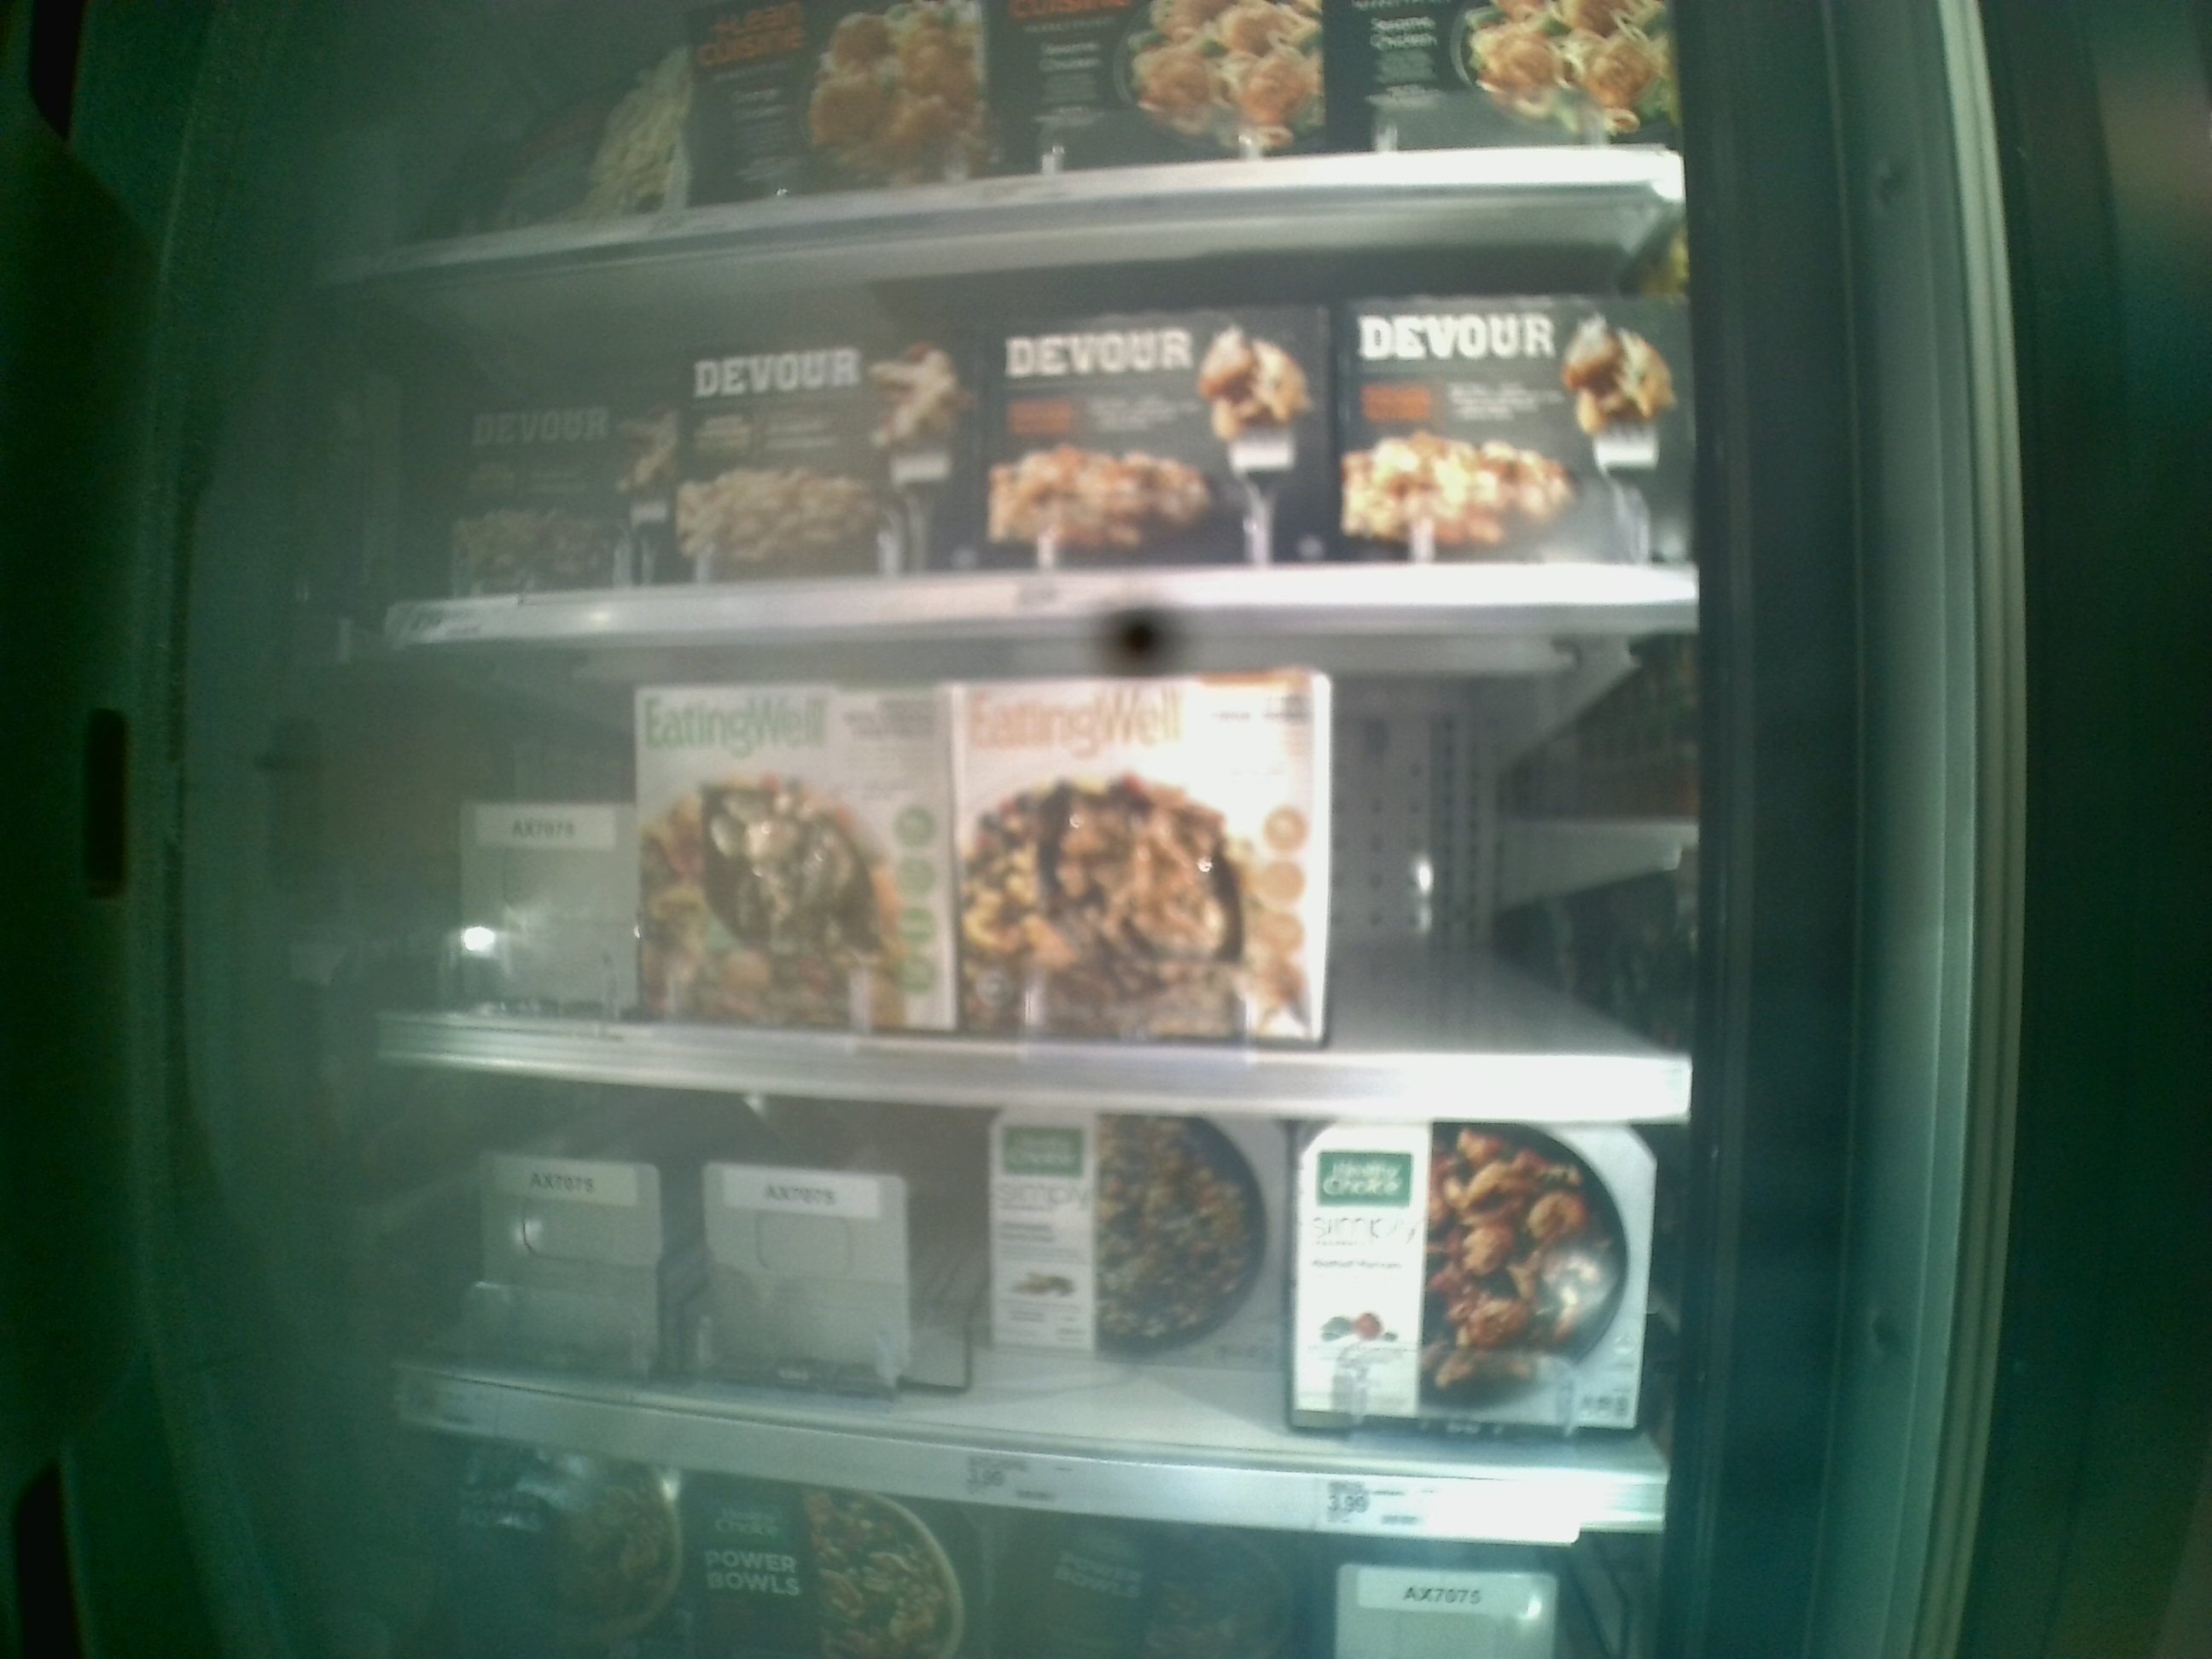shelf: (380, 613, 1703, 1121), (364, 1053, 1679, 1535), (354, 190, 1689, 638)
